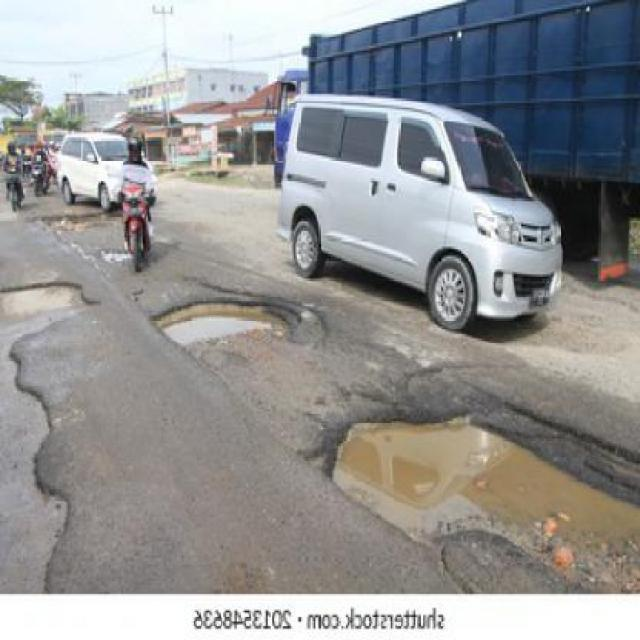Pothole: (301, 385, 640, 590), (0, 278, 102, 592), (152, 284, 342, 356)
